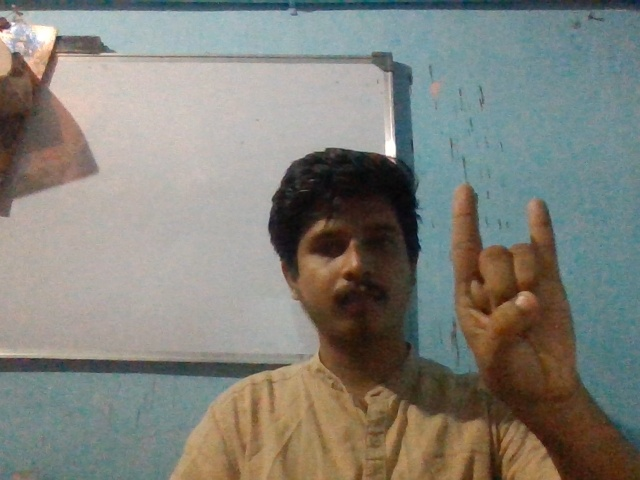Apana: (446, 172, 587, 413)
